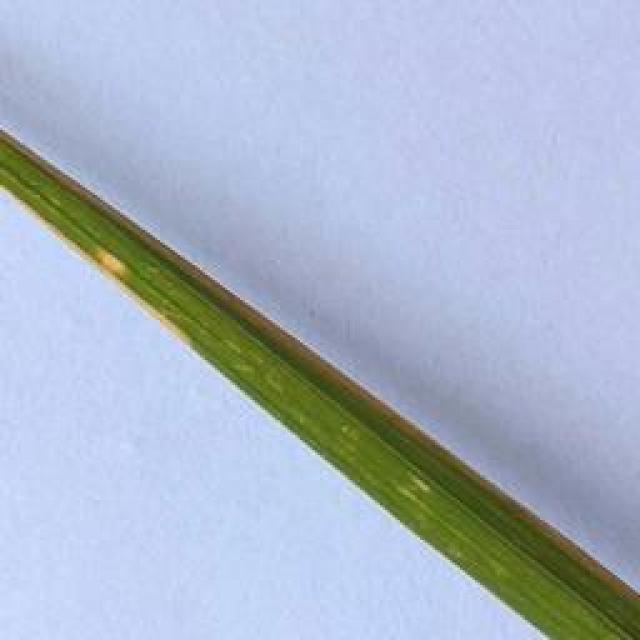Unhealthy: (0, 127, 638, 602), (58, 230, 192, 350)
